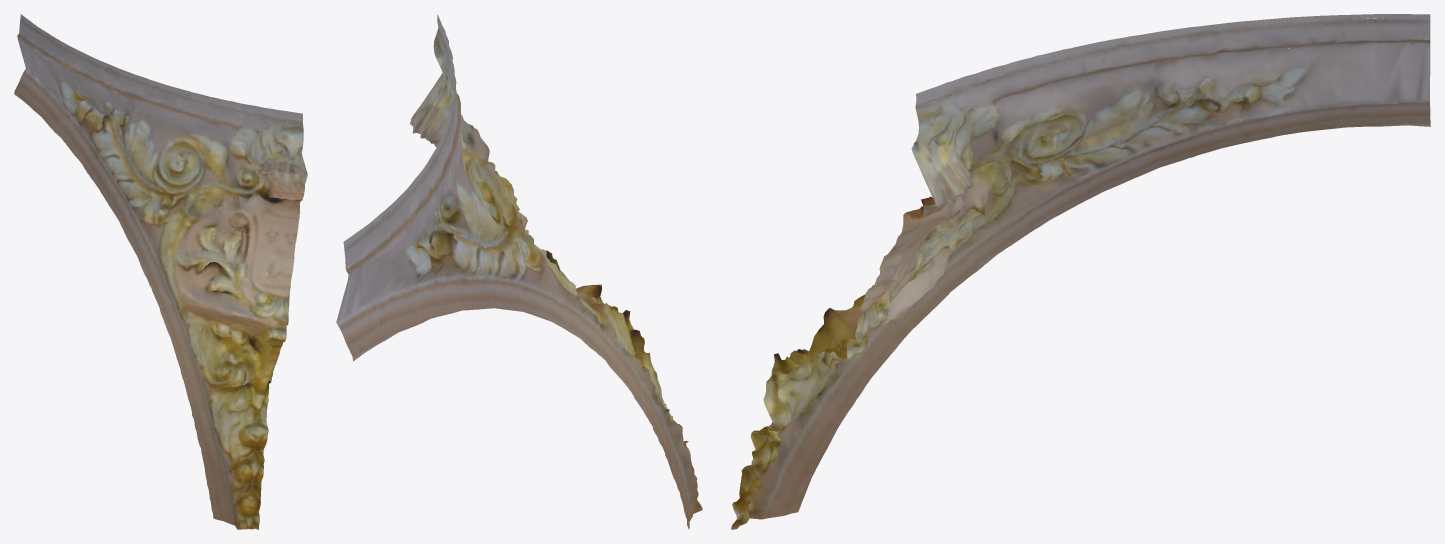
The model's file is dome2_base.gltf.
The picture shows the model from 3 angles, left to right: view 1: azimuth 30°, elevation 25°; view 2: azimuth 150°, elevation 25°; view 3: azimuth 270°, elevation 25°; orthographic projection. The views are drawn at different scales.
Visible parts, largest first — view 1: Object_7; view 2: Object_7; view 3: Object_7.
Part boxes in pixels (left/top/right/bottom): Object_7: left=14, top=14, right=307, bottom=529; Object_7: left=336, top=14, right=702, bottom=529; Object_7: left=731, top=14, right=1430, bottom=529.
Bounding box in the file's own units: 2.7 × 6.32 × 7.8.
2 materials, 2 textured.
